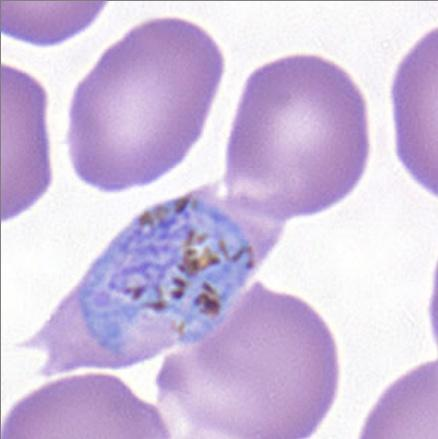Infected: (28, 177, 285, 378)
Uninfected: (158, 281, 338, 439), (68, 17, 228, 192), (228, 58, 369, 219)
